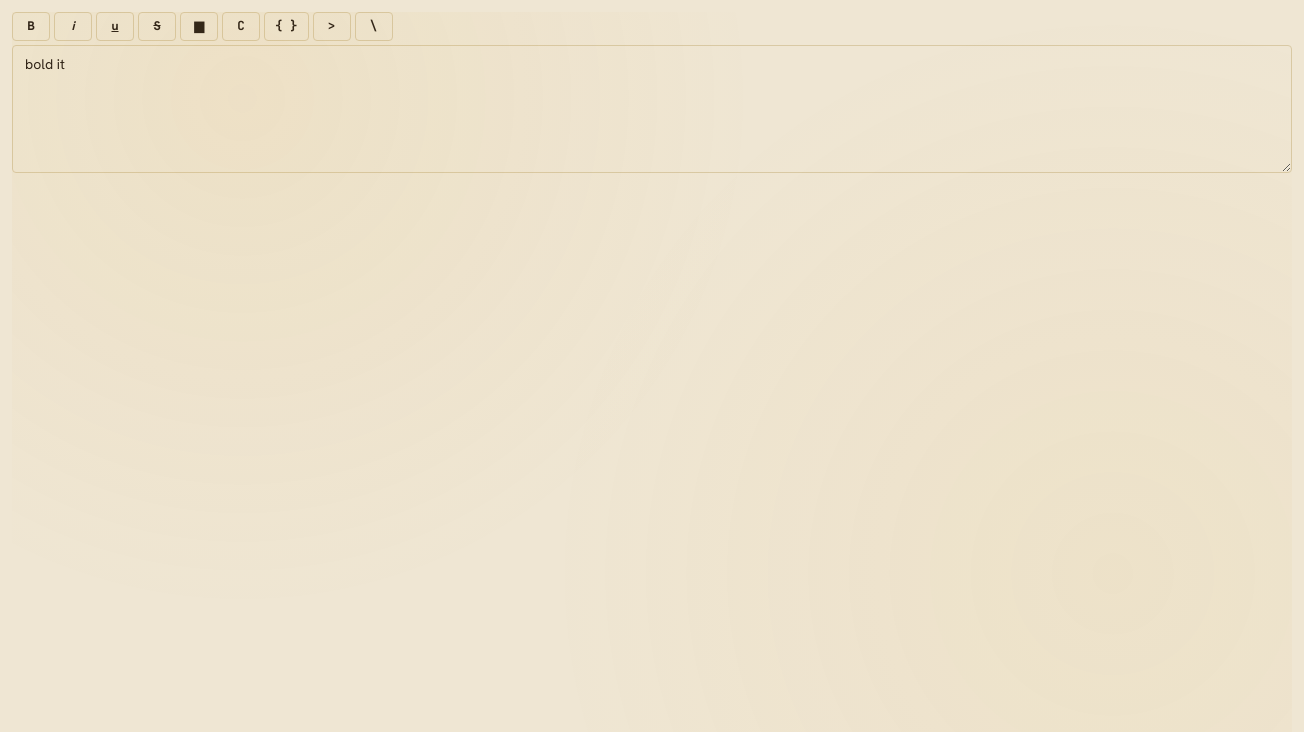
Test: MarkupTextarea › applies the clicked format to the selection and restores it
Click the button titled "Bold" at x=31, y=26, box [12,12,50,41]
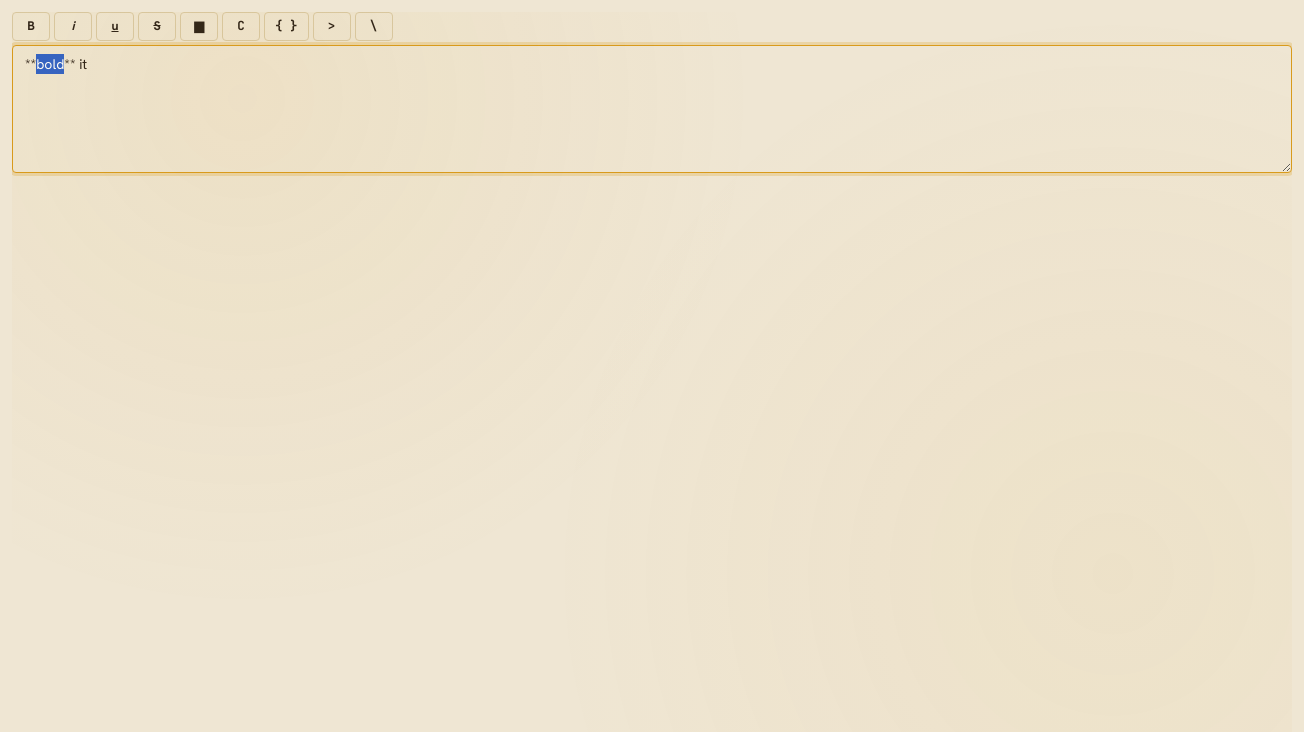
Expected: the text box holds "**bold** it", [12,45,1292,173]
